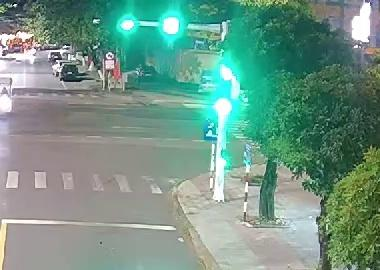green_light: (212, 57, 236, 122), (116, 11, 141, 38), (160, 12, 182, 38)
stop_line: (2, 216, 181, 232)
